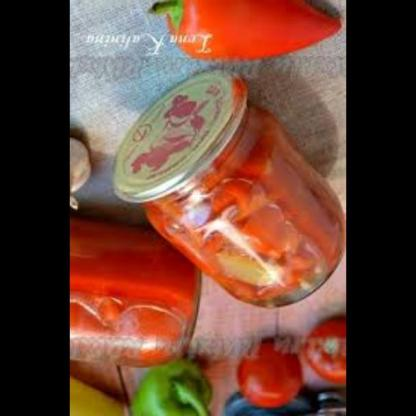bell pepper: (171, 122, 338, 306), (176, 0, 327, 67), (123, 360, 230, 416)
tomato: (237, 342, 304, 413), (306, 318, 347, 396)
